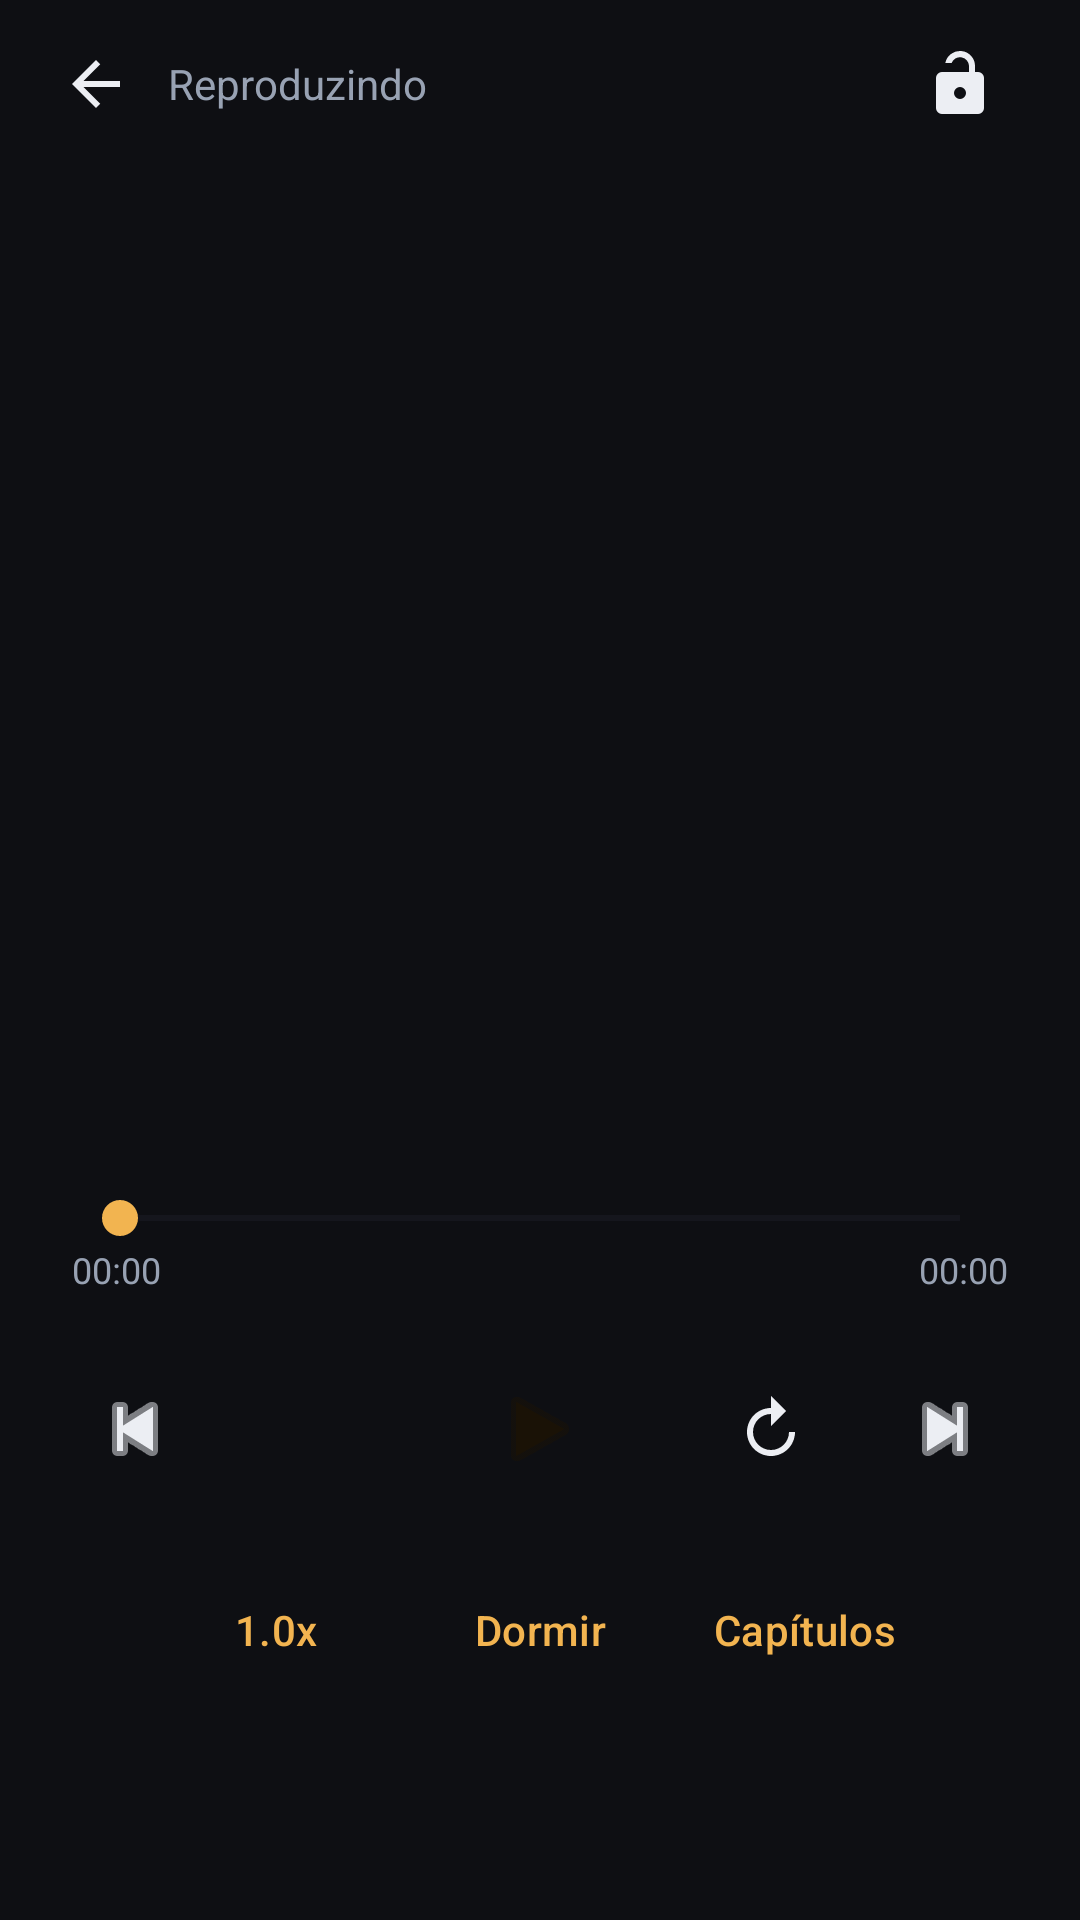

Screen size 1080 x 1920. Icon name, then its center in pixels as point (x, y):
Avançar 15 segundos: point (771, 1426)
Bloquear controles: point (960, 82)
Capítulo anterior: point (135, 1429)
Próximo capítulo: point (945, 1429)
